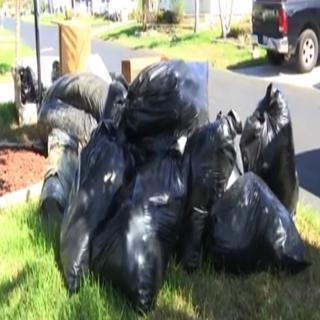Garbage: (101, 146, 196, 309), (59, 116, 132, 290), (236, 76, 308, 220), (208, 173, 308, 271), (125, 53, 216, 138)
